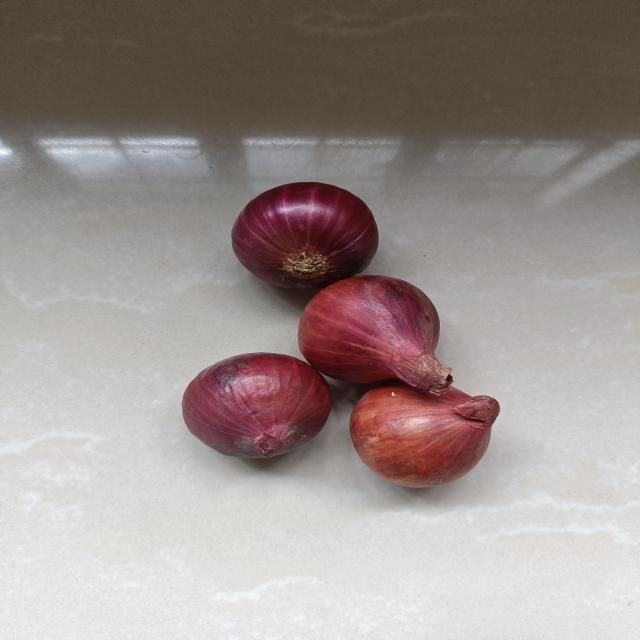onion: (295, 272, 457, 395), (346, 378, 506, 494), (177, 349, 338, 463), (227, 178, 383, 295)
